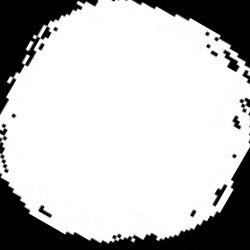spot: (1, 2, 248, 243)
